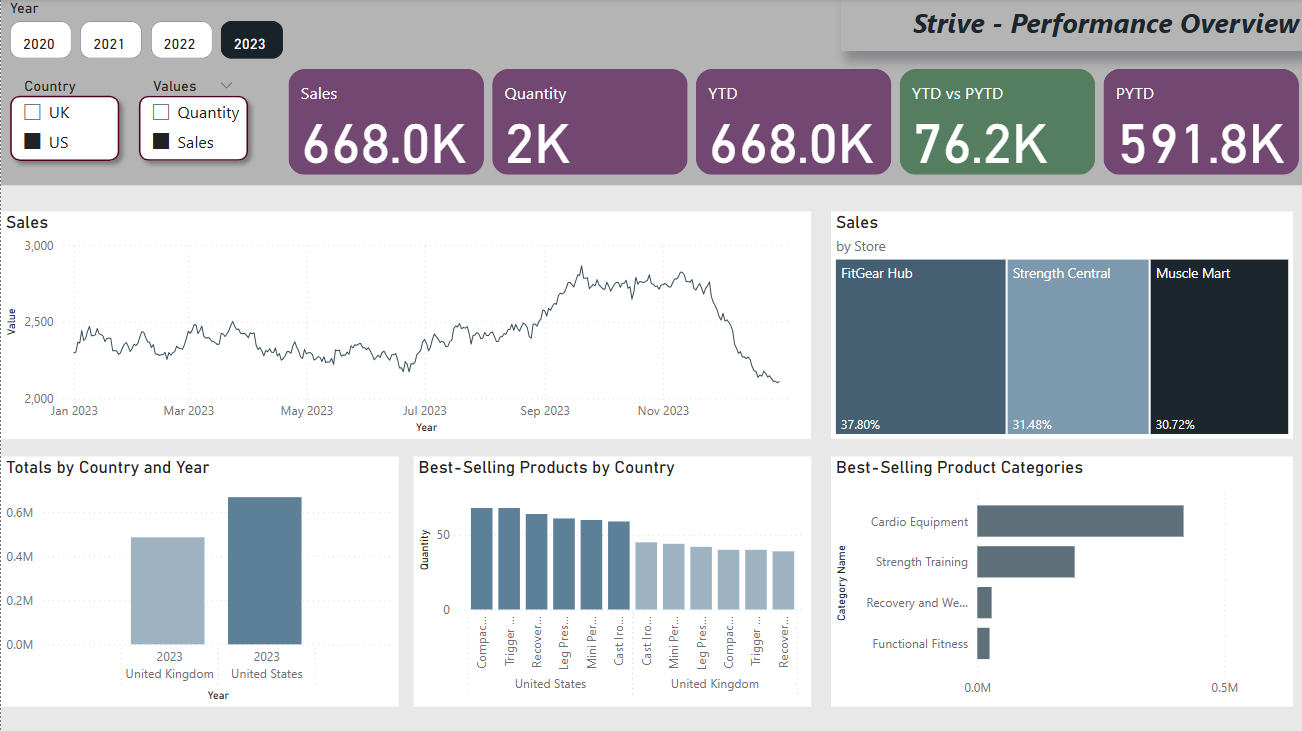

What the dashboard file says about the page in this screenshot:
{"tool":"powerbi","page":{"name":"Page 1","canvas":[1280,720],"ordinal":0},"visuals":[{"type":"shape","box":[0,0,1279.8,182.8],"z":0},{"type":"shape","box":[0,85.6,125.2,82.1],"z":1000,"group":"g2"},{"type":"advancedSlicerVisual","fields":{"Values":["dim_dates.Year"]},"box":[8.6,0,274.8,63.8],"z":2000},{"type":"shape","box":[126.4,85.6,125.2,82],"z":2000,"group":"g1"},{"type":"treemap","fields":{"Group":["dim_stores.store_name"],"Values":["All Measures.Switch Totals"]},"box":[814.7,208.6,454,223],"z":3000},{"type":"slicer","fields":{"Values":["Slicer1.Values"]},"box":[136.8,72.4,104.3,95.7],"z":4000,"group":"g1"},{"type":"clusteredColumnChart","title":"Totals by Country and Year","fields":{"Category":["dim_stores.country_name","dim_dates.Year"],"Y":["All Measures.Switch Totals"]},"box":[0,449.1,390,245.4],"z":4000},{"type":"lineStackedColumnComboChart","title":"Best-Selling Products by Country","fields":{"Category":["dim_stores.country_name","dim_products.product_name"],"Y":["Divide(All Measures.Total Products Sold, ScopedEval(All Measures.Total Products Sold, []))"]},"box":[405.1,449.1,390,245.4],"z":5000},{"type":"barChart","title":"Best-Selling Product Categories","fields":{"Category":["dim_products.category_name","dim_products.subcategory_name","dim_products.product_name"],"Y":["All Measures.Switch Totals"]},"box":[814.7,449.1,454,245.4],"z":6000},{"type":"lineChart","fields":{"Y":["All Measures.Switch Moving Average"],"Category":["dim_dates.Year-Month"]},"box":[0,208.6,795.1,223.3],"z":7000},{"type":"cardVisual","fields":{"Data":["All Measures.Switch Total Sales","All Measures.Switch Quantity","All Measures.Switch_YTD","All Measures.Switch YTD vs PYTD","All Measures.Switch_PYTD"]},"box":[277.3,63.8,1002.5,114.1],"z":8000},{"type":"slicer","fields":{"Values":["Slicer2.Country"]},"box":[9.5,72.4,105.5,85.9],"z":9000,"group":"g2"},{"type":"group","id":"g1","title":"Group 1","box":[126.4,72.4,125.2,95.7],"z":9000},{"type":"group","id":"g2","title":"Group 2","box":[0,72.4,126.4,95.7],"z":10000},{"type":"textbox","box":[824.5,0,455.2,51.5],"z":11000}]}

Visuals, with their boxes in screenshot pixels (x1, y1, x2, y2), scaled from the page's 1280x720 canvas onto the 1302x731 screenshot:
shape: [x1=0, y1=0, x2=1301, y2=186]
shape: [x1=0, y1=87, x2=127, y2=170]
advancedSlicerVisual - dim_dates.Year: [x1=9, y1=0, x2=288, y2=65]
shape: [x1=129, y1=87, x2=256, y2=170]
treemap - dim_stores.store_name x All Measures.Switch Totals: [x1=829, y1=212, x2=1291, y2=438]
slicer - Slicer1.Values: [x1=139, y1=74, x2=245, y2=171]
"Totals by Country and Year" clusteredColumnChart: [x1=0, y1=456, x2=397, y2=705]
"Best-Selling Products by Country" lineStackedColumnComboChart: [x1=412, y1=456, x2=809, y2=705]
"Best-Selling Product Categories" barChart: [x1=829, y1=456, x2=1291, y2=705]
lineChart - All Measures.Switch Moving Average x dim_dates.Year-Month: [x1=0, y1=212, x2=809, y2=438]
cardVisual - All Measures.Switch Total Sales x All Measures.Switch Quantity: [x1=282, y1=65, x2=1301, y2=181]
slicer - Slicer2.Country: [x1=10, y1=74, x2=117, y2=161]
"Group 1" group: [x1=129, y1=74, x2=256, y2=171]
"Group 2" group: [x1=0, y1=74, x2=129, y2=171]
textbox: [x1=839, y1=0, x2=1301, y2=52]
